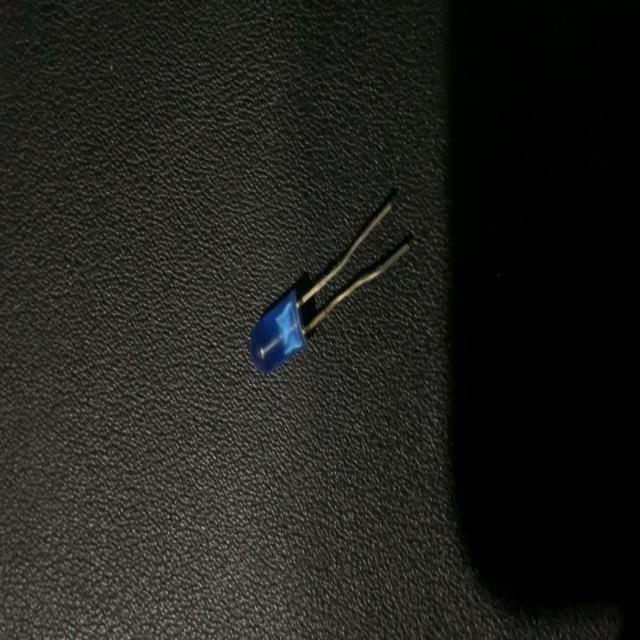LED: (246, 193, 411, 378)
